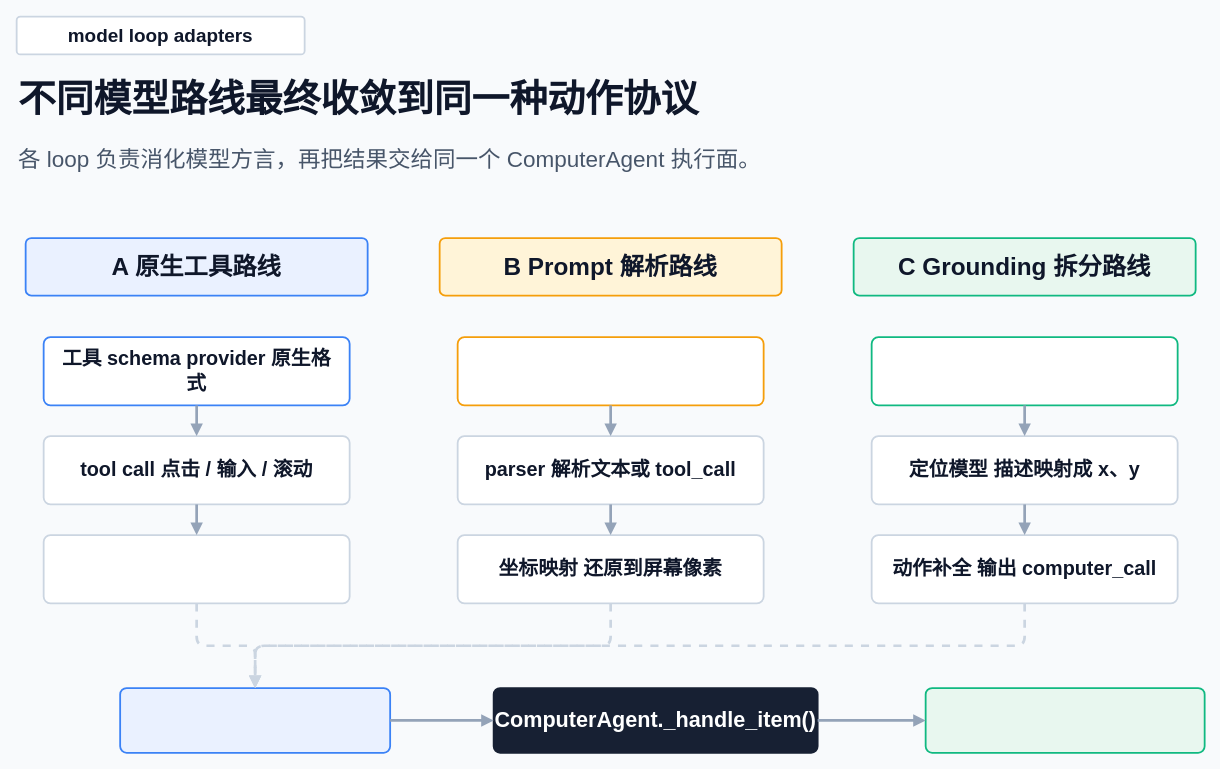
This 1220x769 diagram has some shape labels left out. The centre of each missing label's shape, as x and y in pixels:
Action prompt click / drag / type: (x=610, y=371)
AsyncComputerHandler: (x=1064, y=720)
Responses item 进入执行层: (x=196, y=569)
Responses items: (x=255, y=720)
元素标注 element_id / description: (x=1024, y=371)
